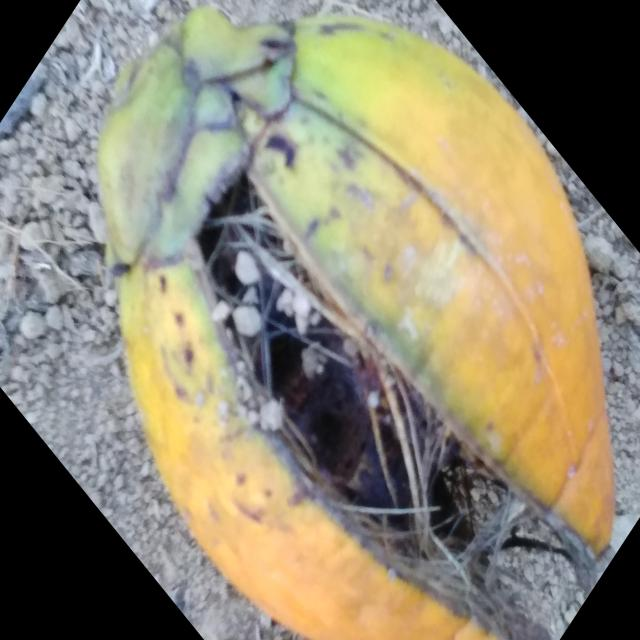damaged: (97, 7, 615, 640)
